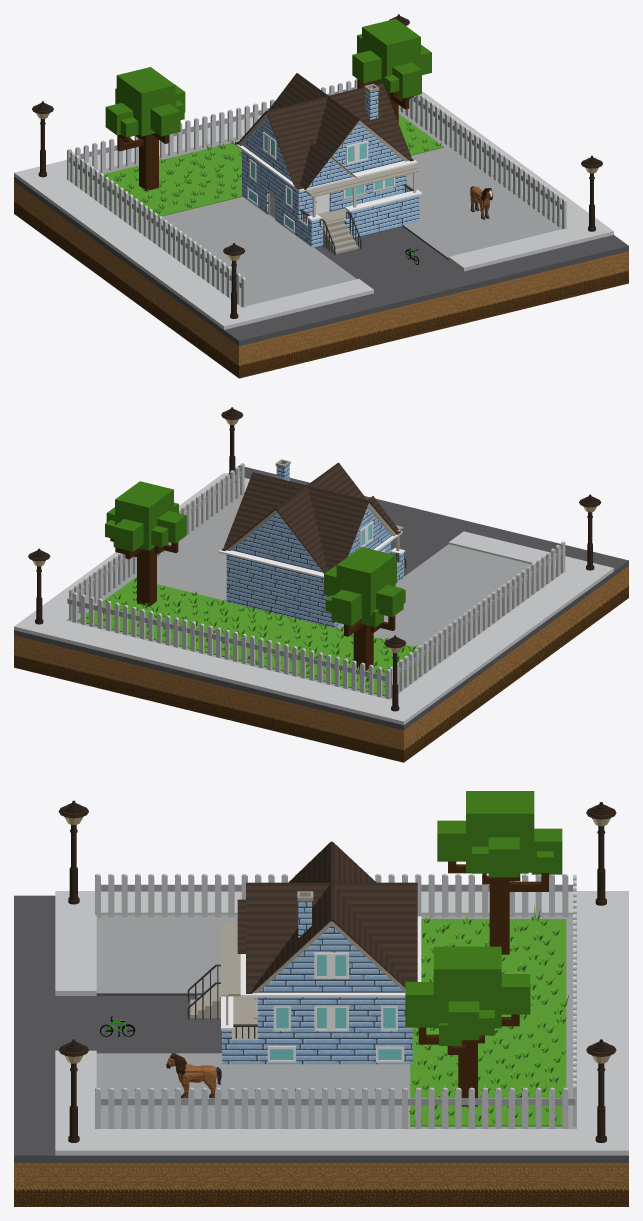
3 renders of one model, top to bottom at view 1: azimuth 30°, elevation 25°; view 2: azimuth 150°, elevation 25°; view 3: azimuth 270°, elevation 25°, orthographic. The views are drawn at different scales.
Parts seen in each view (by area): view 1: Cube.004, Cube.547, ANIMAL_CABALLO; view 2: Cube.004, Cube.547; view 3: Cube.004, Cube.547, ANIMAL_CABALLO.
Boxes of the visible parts, left/top/right/bottom form: Cube.004: left=14, top=14, right=628, bottom=378; Cube.547: left=233, top=73, right=422, bottom=255; ANIMAL_CABALLO: left=470, top=186, right=492, bottom=219; Cube.004: left=14, top=407, right=628, bottom=762; Cube.547: left=218, top=459, right=406, bottom=627; Cube.004: left=14, top=791, right=628, bottom=1206; Cube.547: left=187, top=841, right=421, bottom=1064; ANIMAL_CABALLO: left=166, top=1053, right=221, bottom=1098.
Bounding box in the file's own units: 4000 × 1600 × 4000.
Materials: 30 (4 with a texture image).
